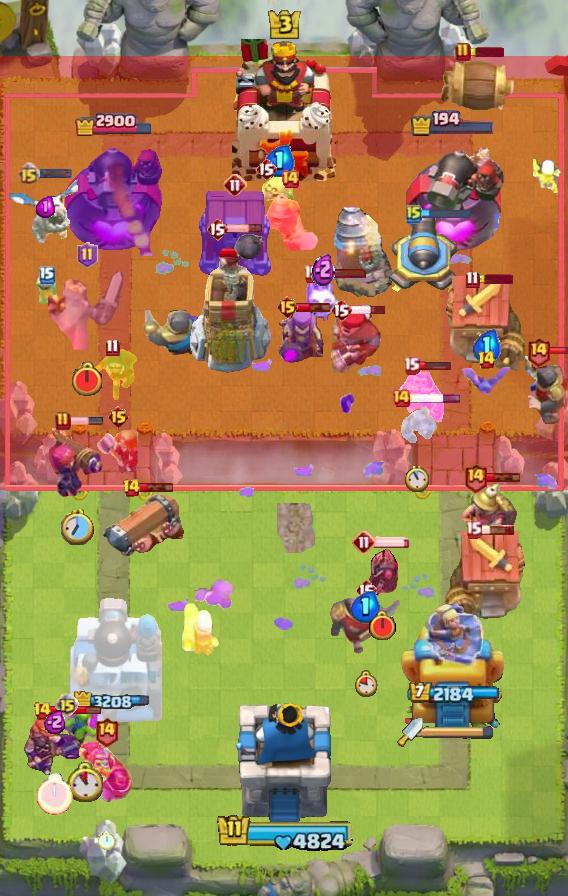bandit: (87, 345, 137, 403)
bar: (49, 705, 102, 716), (409, 393, 462, 404), (419, 208, 471, 219), (317, 268, 367, 279), (373, 536, 411, 548), (350, 304, 387, 316), (479, 524, 515, 536), (296, 301, 332, 313), (417, 359, 452, 371), (226, 223, 263, 234), (37, 168, 73, 179), (139, 482, 174, 493), (486, 472, 521, 483), (68, 416, 104, 426), (477, 274, 513, 284), (468, 47, 504, 57), (548, 346, 568, 356)
bar-level: (94, 716, 119, 747), (463, 462, 488, 493), (526, 336, 551, 367), (55, 693, 79, 717), (352, 530, 376, 554), (223, 173, 247, 197), (107, 405, 130, 429), (276, 295, 299, 319), (77, 242, 98, 268), (17, 162, 40, 185), (355, 578, 377, 602), (330, 298, 352, 322), (206, 217, 228, 241), (255, 157, 277, 181), (391, 388, 411, 408), (280, 169, 300, 189), (33, 701, 52, 721), (122, 478, 141, 498), (477, 350, 496, 370), (465, 520, 482, 539), (403, 356, 420, 375), (303, 264, 320, 283), (55, 411, 71, 431), (406, 204, 422, 224), (455, 42, 471, 62), (39, 266, 55, 284), (105, 338, 120, 357), (465, 270, 480, 289)
barbarian-barrel: (438, 57, 518, 117)
bat-evolution: (462, 367, 510, 395)
cannoneer-tower: (66, 595, 162, 731), (402, 136, 504, 256), (64, 138, 165, 256)
clock: (37, 773, 73, 815), (67, 762, 103, 802), (70, 361, 104, 398), (61, 509, 94, 545), (368, 610, 397, 642), (405, 465, 429, 492), (355, 670, 378, 697), (98, 831, 115, 850)
dagger-duchess-tower: (398, 595, 508, 731)
dagger-duchess-tower-bar: (423, 725, 495, 739)
dirt: (277, 503, 315, 553)
elixir: (472, 329, 501, 363), (351, 591, 381, 623), (265, 145, 295, 177), (312, 251, 335, 286), (44, 709, 67, 734), (36, 196, 55, 218)
firecracker: (180, 600, 222, 658)
firecracker-evolution: (48, 425, 106, 499)
goblin: (59, 703, 111, 753)
heal-spirit: (260, 172, 300, 206)
hunter: (325, 309, 383, 373)
ice-spirit-evolution: (299, 275, 347, 323)
king-tower: (232, 39, 336, 181), (235, 703, 333, 826)
king-tower-bar: (213, 813, 356, 854)
knight: (329, 595, 403, 655), (142, 310, 208, 356), (525, 356, 568, 425)
knight-evolution: (79, 740, 133, 803), (398, 366, 444, 424)
miner: (259, 186, 321, 254), (461, 478, 519, 548)
mini-pekka: (361, 546, 403, 600)
minion: (397, 403, 437, 447)
mother-witch: (274, 305, 328, 369)
royal-ghost: (48, 270, 126, 350)
skeleton: (533, 159, 563, 193), (36, 274, 58, 306)
tower-bar: (410, 110, 496, 137), (408, 682, 499, 705), (74, 111, 154, 136), (74, 691, 155, 713)
valkyrie: (95, 429, 141, 475)
valkyrie-evolution: (23, 714, 87, 778)
